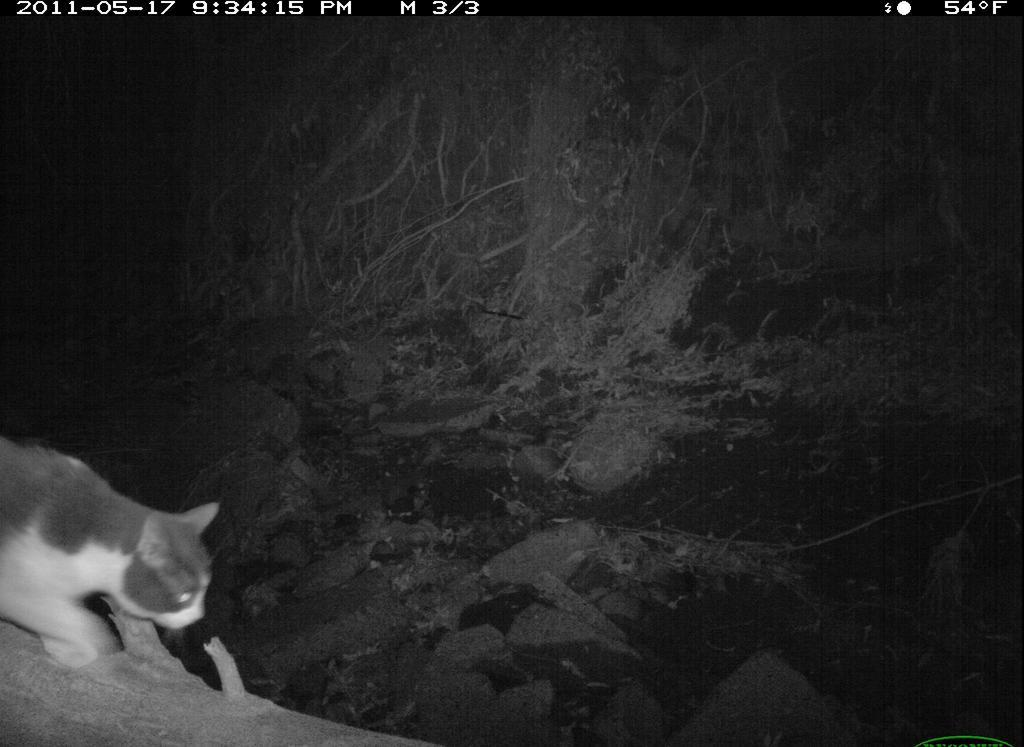cat: (1, 427, 235, 673)
